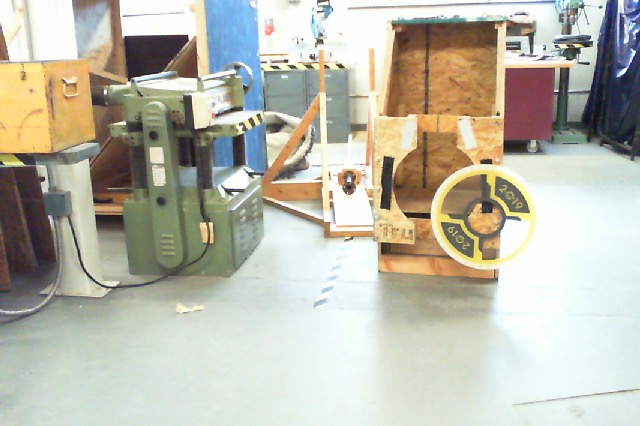Hatch: (430, 163, 540, 270)
Tape: (457, 119, 476, 150), (400, 117, 416, 149)
